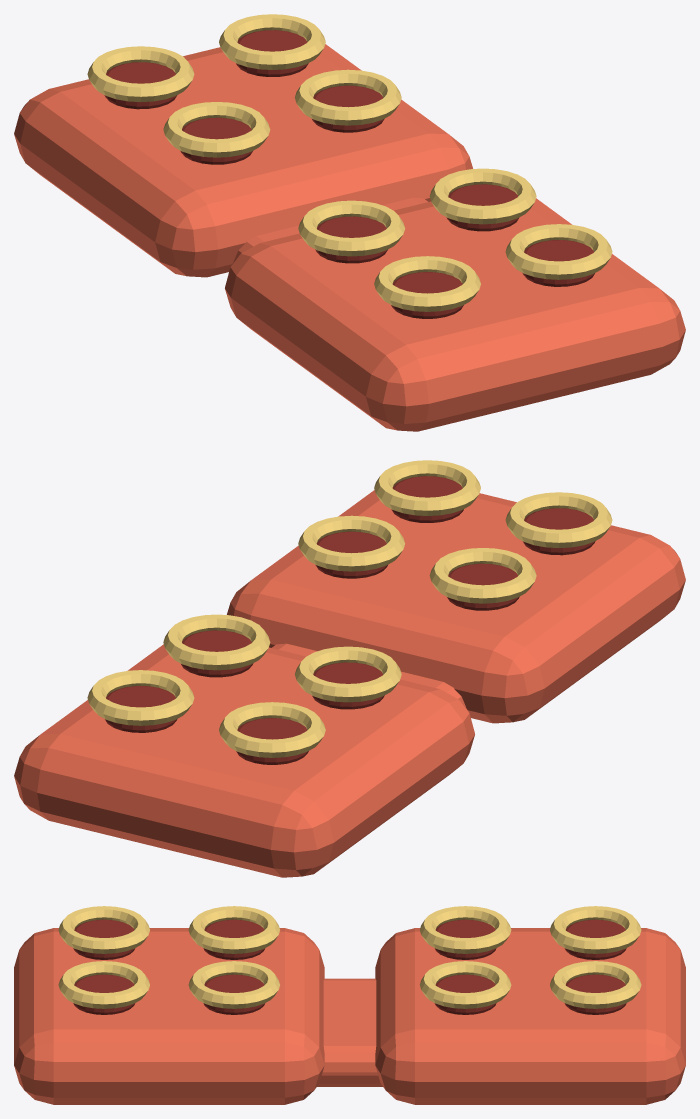
Rendered from PR3D_Container_1x2.glb.
The picture shows the model from 3 angles, top to bottom: view 1: azimuth 30°, elevation 25°; view 2: azimuth 150°, elevation 25°; view 3: azimuth 270°, elevation 25°; orthographic projection. The views are drawn at different scales.
Parts seen in each view (by area): view 1: Visual_1x2_Base_00, Visual_1x2_Base_01, Visual_1x2_ToppingRim_00_02, Visual_1x2_ToppingRim_00_01, Visual_1x2_ToppingRim_01_03, Visual_1x2_ToppingRim_01_02, Visual_1x2_ToppingRim_01_01, Visual_1x2_ToppingRim_00_03, Visual_1x2_ToppingRim_01_00, Visual_1x2_ToppingRim_00_00, Visual_1x2_Topping_01_01, Visual_1x2_Topping_00_03 (+7 smaller); view 2: Visual_1x2_Base_01, Visual_1x2_Base_00, Visual_1x2_ToppingRim_01_03, Visual_1x2_ToppingRim_01_00, Visual_1x2_ToppingRim_00_02, Visual_1x2_ToppingRim_00_03, Visual_1x2_ToppingRim_00_00, Visual_1x2_ToppingRim_00_01, Visual_1x2_ToppingRim_01_02, Visual_1x2_ToppingRim_01_01, Visual_1x2_Topping_00_00, Visual_1x2_Topping_01_02 (+7 smaller); view 3: Visual_1x2_Base_00, Visual_1x2_Base_01, Visual_1x2_Bridge_00, Visual_1x2_ToppingRim_00_03, Visual_1x2_ToppingRim_01_02, Visual_1x2_ToppingRim_00_01, Visual_1x2_ToppingRim_01_00, Visual_1x2_ToppingRim_00_00, Visual_1x2_ToppingRim_01_01, Visual_1x2_ToppingRim_00_02, Visual_1x2_ToppingRim_01_03, Visual_1x2_Topping_00_03 (+7 smaller).
Boxes of the visible parts, bbox=[...] form: Visual_1x2_Base_00: bbox=[225, 198, 685, 431]; Visual_1x2_Base_01: bbox=[14, 44, 472, 277]; Visual_1x2_ToppingRim_00_02: bbox=[505, 224, 612, 279]; Visual_1x2_ToppingRim_00_01: bbox=[298, 200, 405, 256]; Visual_1x2_ToppingRim_01_03: bbox=[219, 14, 325, 69]; Visual_1x2_ToppingRim_01_02: bbox=[294, 69, 401, 125]; Visual_1x2_ToppingRim_01_01: bbox=[87, 46, 194, 101]; Visual_1x2_ToppingRim_00_03: bbox=[429, 168, 536, 224]; Visual_1x2_ToppingRim_01_00: bbox=[163, 102, 270, 157]; Visual_1x2_ToppingRim_00_00: bbox=[374, 256, 480, 311]; Visual_1x2_Topping_01_01: bbox=[104, 62, 176, 109]; Visual_1x2_Topping_00_03: bbox=[446, 184, 518, 231]; Visual_1x2_Base_01: bbox=[14, 644, 474, 877]; Visual_1x2_Base_00: bbox=[227, 490, 685, 723]; Visual_1x2_ToppingRim_01_03: bbox=[87, 670, 194, 725]; Visual_1x2_ToppingRim_01_00: bbox=[294, 646, 401, 702]; Visual_1x2_ToppingRim_00_02: bbox=[374, 460, 480, 515]; Visual_1x2_ToppingRim_00_03: bbox=[298, 515, 405, 571]; Visual_1x2_ToppingRim_00_00: bbox=[505, 492, 612, 547]; Visual_1x2_ToppingRim_00_01: bbox=[429, 548, 536, 603]; Visual_1x2_ToppingRim_01_02: bbox=[163, 614, 270, 670]; Visual_1x2_ToppingRim_01_01: bbox=[219, 702, 325, 757]; Visual_1x2_Topping_00_00: bbox=[523, 508, 595, 555]; Visual_1x2_Topping_01_02: bbox=[181, 630, 253, 677]; Visual_1x2_Base_00: bbox=[14, 928, 324, 1104]; Visual_1x2_Base_01: bbox=[375, 928, 685, 1104]; Visual_1x2_Bridge_00: bbox=[317, 978, 382, 1086]; Visual_1x2_ToppingRim_00_03: bbox=[188, 961, 279, 1008]; Visual_1x2_ToppingRim_01_02: bbox=[420, 961, 511, 1008]; Visual_1x2_ToppingRim_00_01: bbox=[188, 906, 279, 953]; Visual_1x2_ToppingRim_01_00: bbox=[420, 906, 511, 953]; Visual_1x2_ToppingRim_00_00: bbox=[58, 906, 149, 953]; Visual_1x2_ToppingRim_01_01: bbox=[550, 906, 641, 953]; Visual_1x2_ToppingRim_00_02: bbox=[58, 961, 149, 1008]; Visual_1x2_ToppingRim_01_03: bbox=[550, 961, 641, 1008]; Visual_1x2_Topping_00_03: bbox=[203, 974, 265, 1014].
Bounding box in the file's own units: 0.86 × 0.3091 × 1.86.
